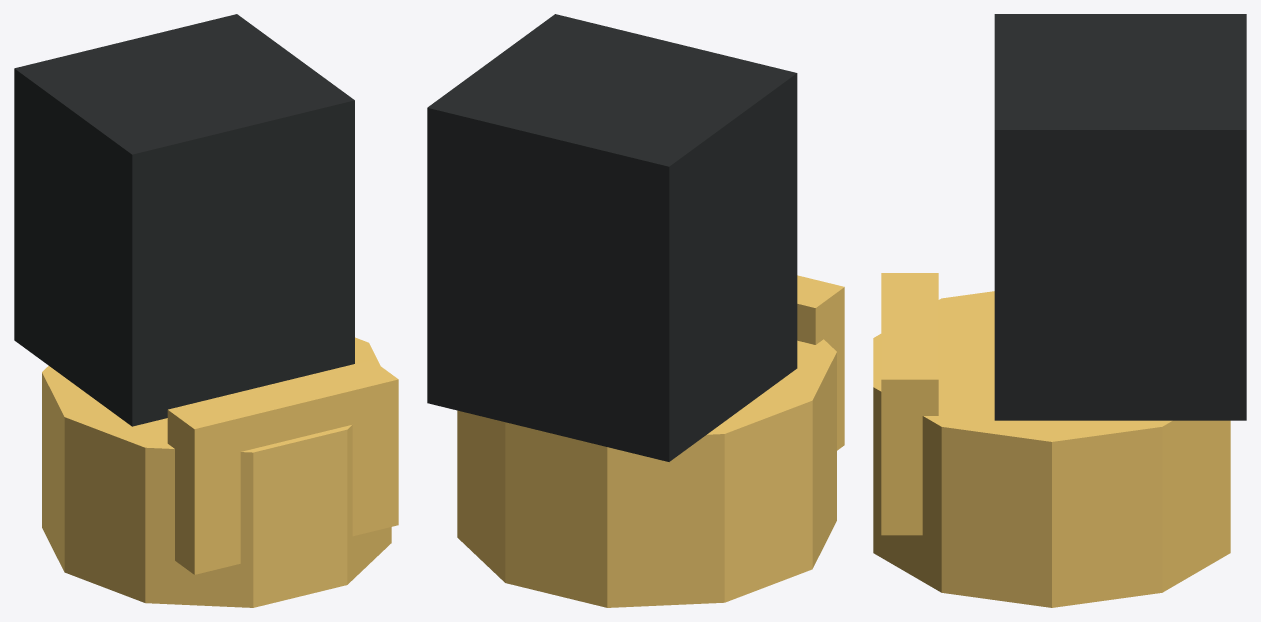
File: IncubatorHeater.fbx
3 renders of one model, left to right at view 1: azimuth 30°, elevation 25°; view 2: azimuth 150°, elevation 25°; view 3: azimuth 270°, elevation 25°, orthographic. The views are drawn at different scales.
Parts seen in each view (by area): view 1: IncubatorHeater; view 2: IncubatorHeater; view 3: IncubatorHeater.
Part boxes in pixels (x1=…): IncubatorHeater: x1=14, y1=14, x2=398, y2=607; IncubatorHeater: x1=427, y1=14, x2=844, y2=607; IncubatorHeater: x1=873, y1=14, x2=1246, y2=607.
Bounding box in the file's own units: 16.4 × 22 × 16.3.
